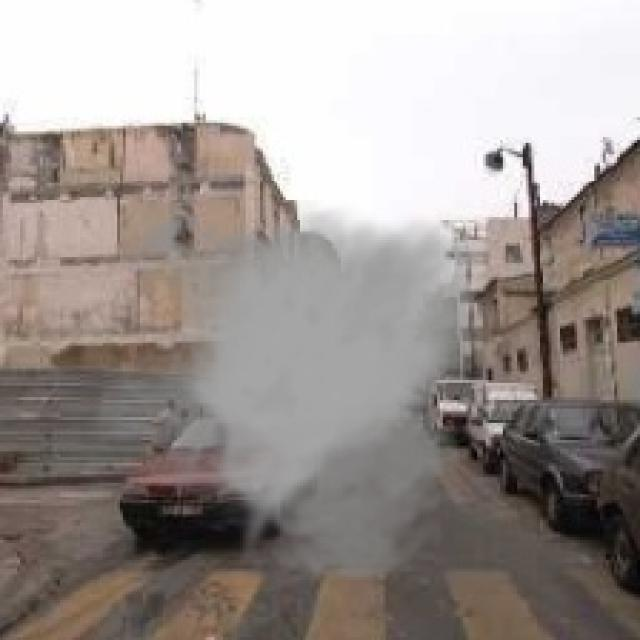Smoke: (94, 200, 494, 586)
